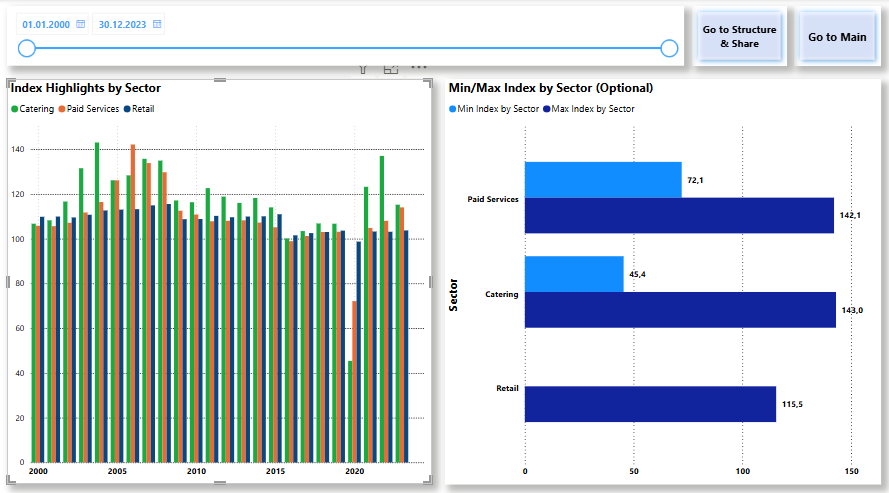

The page's visual inventory and layout, read from the dashboard file:
{"tool":"powerbi","page":{"name":"Indexes","canvas":[1280,720],"ordinal":4},"visuals":[{"type":"lineChart","title":"Indexes Compared to Previous Year","fields":{"Category":["Calendar.Year"],"Y":["Sum(Retail_Services_Indexes.Retail_Index_Percent                                                                        ","Sum(Retail_Services_Indexes.Paid_Services_Index_Percent                          )","Sum(Retail_Services_Indexes.Catering_Index_Percent                                               )"]},"box":[10,115.7,611.4,582.9],"z":0},{"type":"clusteredBarChart","title":"Min/Max Index by Sector (Optional)","fields":{"Category":["Sectors.Sector"],"Y":["Sectors.Min Index by Sector","Sectors.Max Index by Sector"]},"box":[640,115.7,628.6,582.9],"z":1000},{"type":"slicer","fields":{"Values":["Calendar.Date"]},"box":[10.1,10.1,976.3,86.4],"z":2000},{"type":"actionButton","title":"Go to Main","box":[1143.4,10.1,125.3,86.4],"z":3000},{"type":"actionButton","box":[996.5,10.1,136.8,86.4],"z":4000}]}

Visuals, with their boxes in screenshot pixels (x1, y1, x2, y2), scaled from the page's 1280x720 canvas onto the 889x493 screenshot:
"Indexes Compared to Previous Year" lineChart: region(7, 79, 432, 478)
"Min/Max Index by Sector (Optional)" clusteredBarChart: region(444, 79, 881, 478)
slicer - Calendar.Date: region(7, 7, 685, 66)
"Go to Main" actionButton: region(794, 7, 881, 66)
actionButton: region(692, 7, 787, 66)
